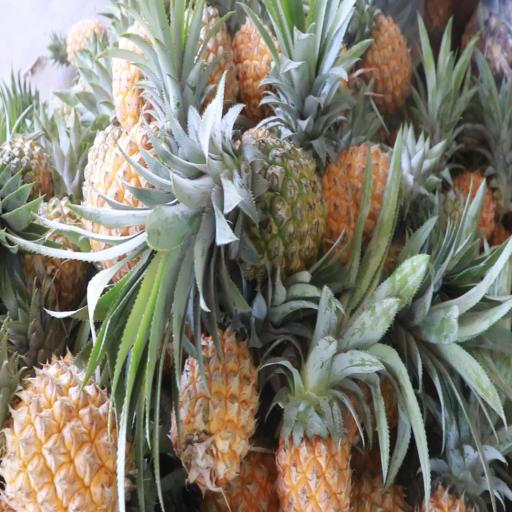Pineapple - v8 v1: (0, 351, 142, 512), (82, 114, 200, 270), (175, 324, 261, 498), (275, 328, 356, 512), (351, 13, 419, 116)
